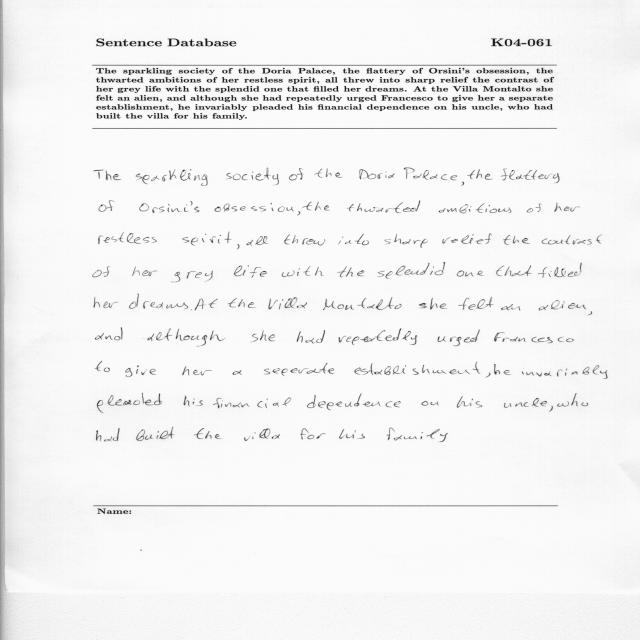word: (494, 312, 592, 344), (354, 362, 480, 375), (307, 394, 401, 410), (148, 328, 226, 347), (339, 328, 417, 345), (97, 393, 162, 413), (136, 169, 208, 186), (522, 365, 608, 379), (377, 262, 445, 279), (323, 297, 402, 310), (264, 363, 334, 376), (226, 168, 279, 185), (129, 294, 188, 309), (347, 201, 420, 213), (213, 398, 291, 409), (501, 169, 560, 183), (139, 201, 200, 213), (439, 203, 512, 213), (438, 330, 480, 347), (215, 203, 294, 212), (538, 262, 582, 278), (99, 232, 157, 244), (387, 428, 440, 441), (182, 232, 232, 245), (404, 168, 457, 180), (385, 234, 428, 248), (542, 235, 602, 245), (442, 233, 492, 244), (136, 427, 175, 441), (458, 297, 494, 310), (244, 428, 280, 441), (171, 271, 213, 282), (282, 266, 324, 277), (269, 298, 307, 310), (284, 235, 325, 246), (557, 393, 588, 407), (504, 398, 547, 408), (234, 265, 267, 278), (359, 169, 395, 180), (496, 266, 532, 277), (539, 300, 575, 311), (126, 365, 157, 377), (95, 327, 123, 340), (297, 330, 325, 343), (338, 234, 369, 245), (300, 428, 326, 440), (419, 298, 447, 309), (194, 428, 222, 439), (182, 366, 212, 376), (457, 396, 482, 408), (97, 428, 120, 441), (338, 267, 365, 278), (314, 168, 343, 178), (251, 331, 275, 343), (467, 169, 493, 180), (228, 298, 256, 308), (195, 299, 218, 311), (94, 170, 121, 180), (503, 235, 530, 245), (94, 297, 118, 308), (132, 267, 158, 277), (339, 429, 365, 439), (554, 203, 580, 212), (246, 236, 268, 246), (297, 202, 312, 216), (183, 396, 203, 406), (93, 267, 111, 278), (457, 270, 484, 277), (494, 364, 511, 375), (99, 201, 115, 212), (289, 168, 303, 180), (95, 361, 110, 372), (315, 202, 330, 211), (501, 304, 520, 311), (527, 204, 541, 213), (421, 401, 439, 406), (439, 433, 448, 442), (574, 305, 586, 310), (233, 370, 242, 375), (486, 373, 491, 378), (549, 406, 553, 412), (237, 244, 240, 249), (461, 182, 464, 186), (190, 310, 192, 311)
